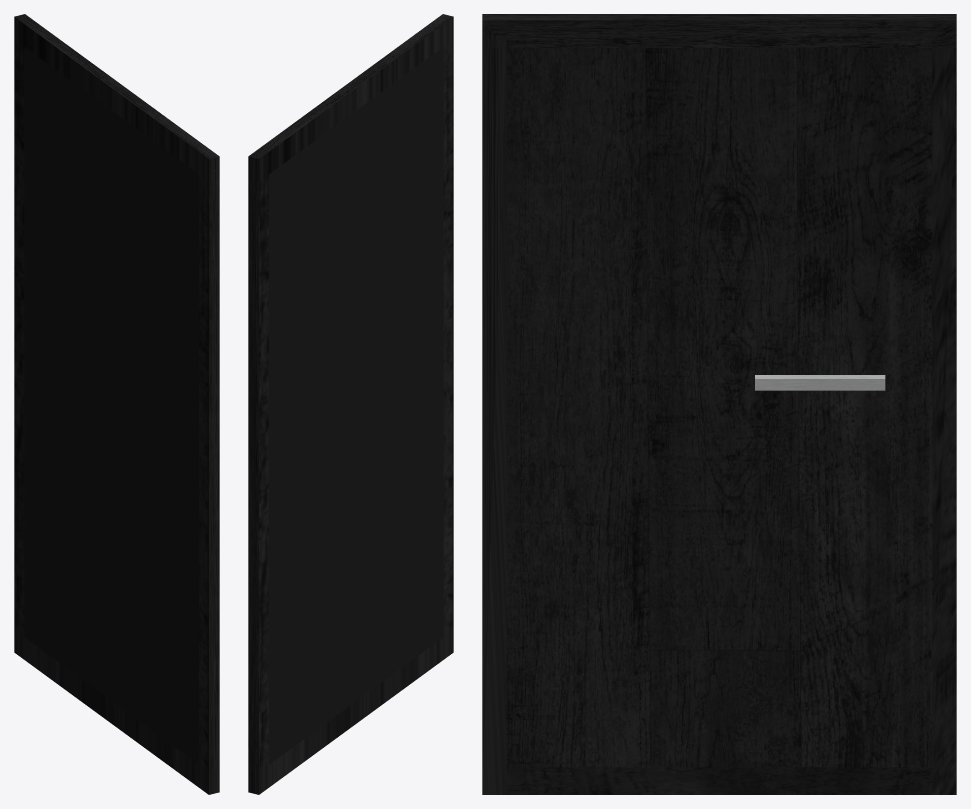
Rendered from Kast_DoorLeft2.fbx.
3 views of the same model, side by side, from view 1: azimuth 30°, elevation 25°; view 2: azimuth 150°, elevation 25°; view 3: azimuth 270°, elevation 25° (orthographic). The views are drawn at different scales.
Parts seen in each view (by area): view 1: KastDeurKlein; view 2: KastDeurKlein; view 3: KastDeurKlein.
Boxes of the visible parts, left/top/right/bottom form: KastDeurKlein: left=14, top=14, right=219, bottom=794; KastDeurKlein: left=248, top=14, right=453, bottom=794; KastDeurKlein: left=482, top=14, right=956, bottom=794.
Bounding box in the file's own units: 4.03 × 140 × 77.9.
